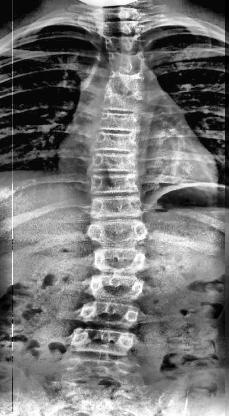Vertebrae: (70, 324, 138, 358), (78, 300, 144, 330), (88, 218, 150, 248), (89, 270, 146, 302), (93, 243, 151, 273), (88, 193, 146, 221), (89, 149, 144, 175), (88, 169, 142, 195), (95, 109, 149, 133), (90, 130, 144, 154), (102, 88, 148, 115), (104, 70, 149, 94), (101, 34, 145, 58), (98, 19, 144, 39), (108, 52, 148, 74)
